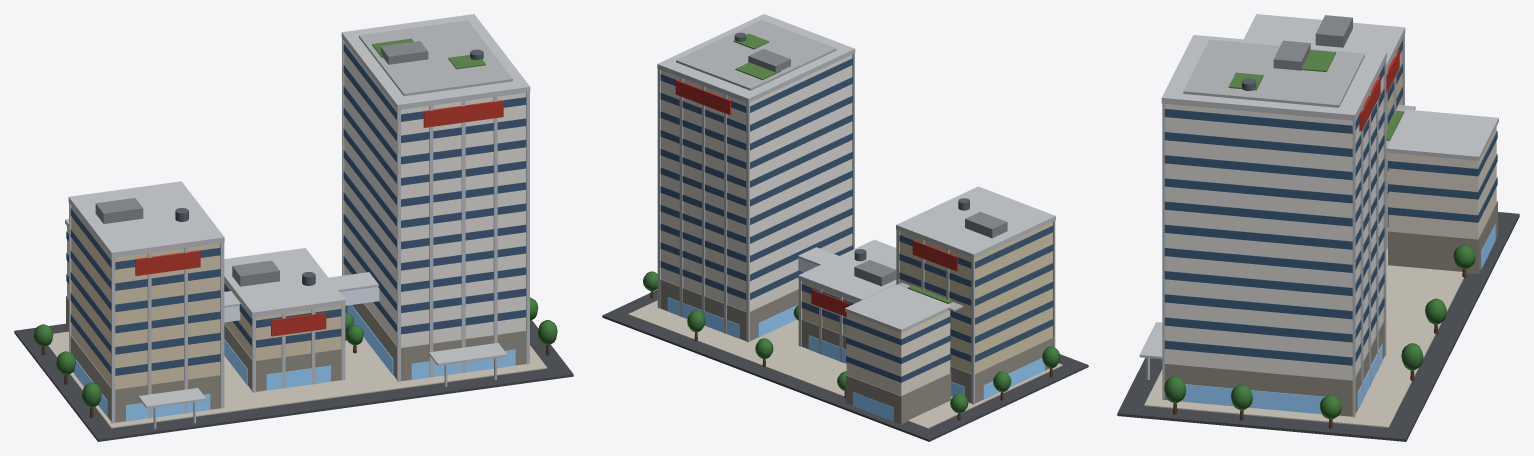
File: mario-outlet.glb
The picture shows the model from 3 angles, left to right: view 1: azimuth 30°, elevation 25°; view 2: azimuth 150°, elevation 25°; view 3: azimuth 270°, elevation 25°; orthographic projection. The views are drawn at different scales.
Bounding box in the file's own units: 105 × 61.6 × 70.82.
